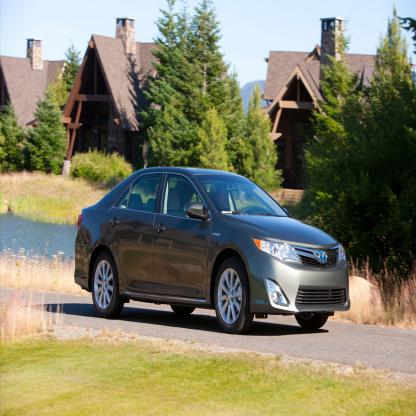Vehicle: (75, 162, 352, 334)
